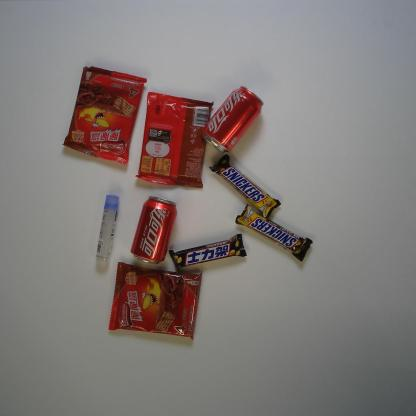Chocolate: (209, 154, 282, 219), (234, 204, 313, 263), (169, 232, 248, 272)
Dessert: (62, 65, 147, 167), (134, 91, 214, 189), (108, 262, 204, 342)
Drink: (200, 85, 264, 155), (130, 195, 178, 266)
Stationery: (95, 194, 120, 263)
